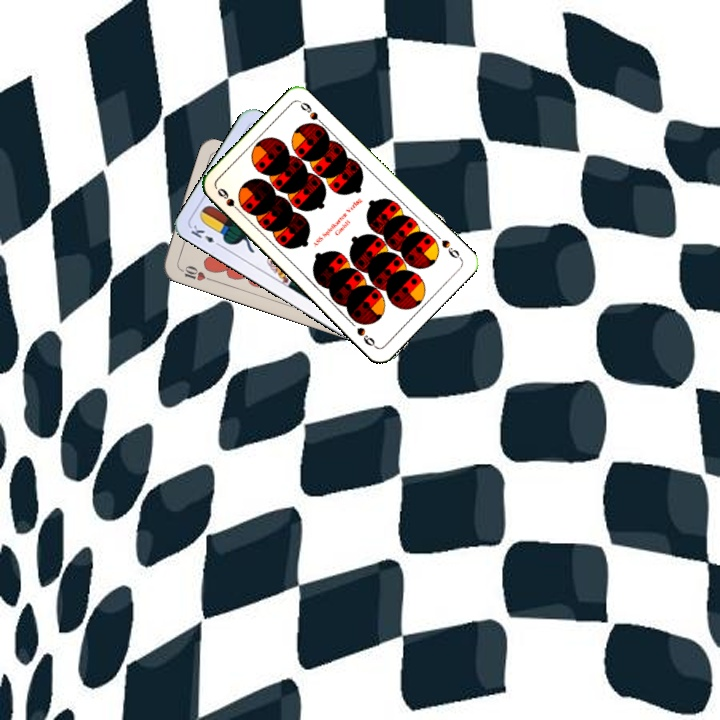EK: (186, 221, 225, 250)
H10: (175, 261, 214, 284)
S9: (213, 184, 245, 217), (437, 236, 464, 262)
